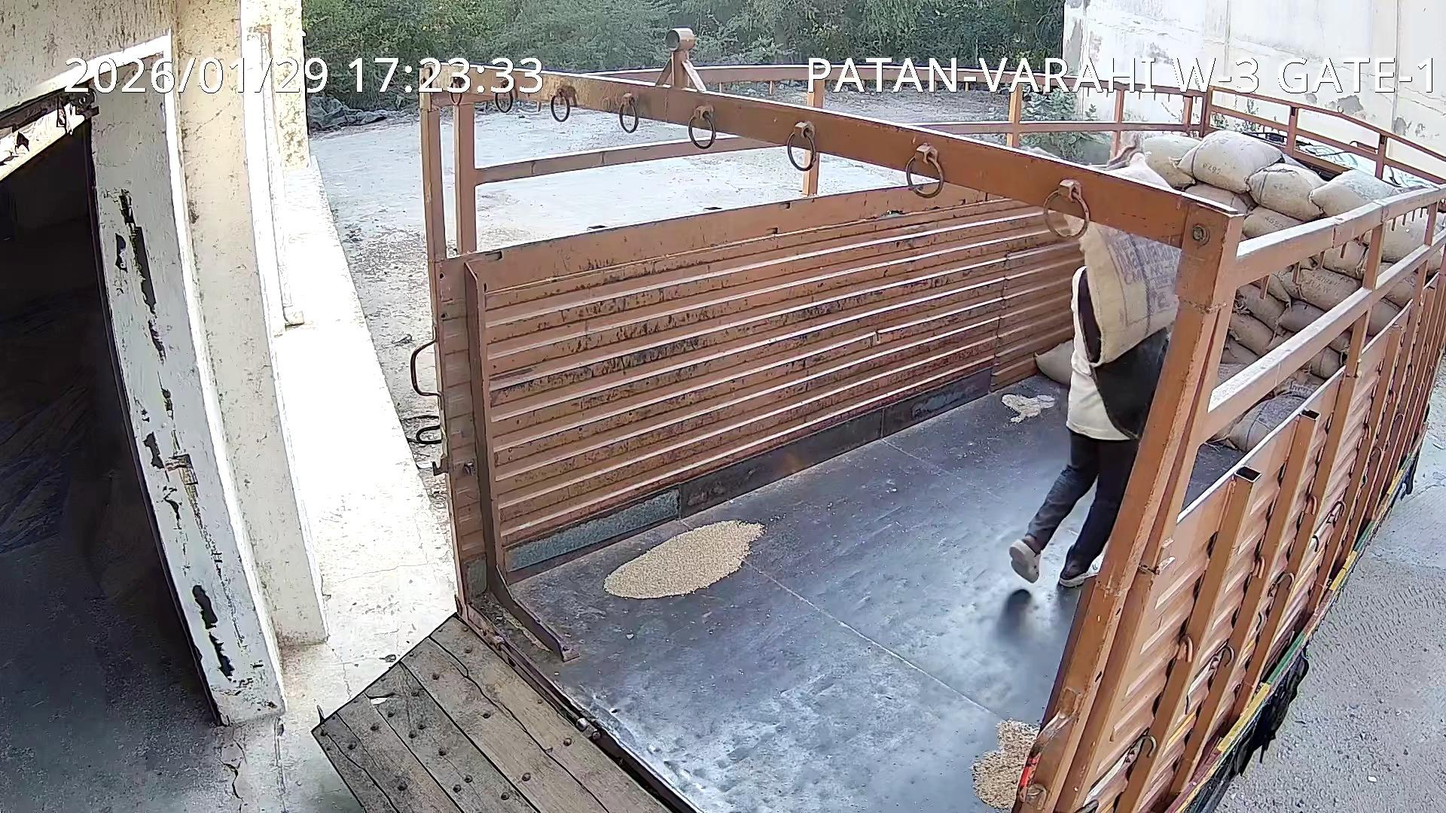Sack: (1079, 221, 1179, 365), (1108, 158, 1167, 188)
